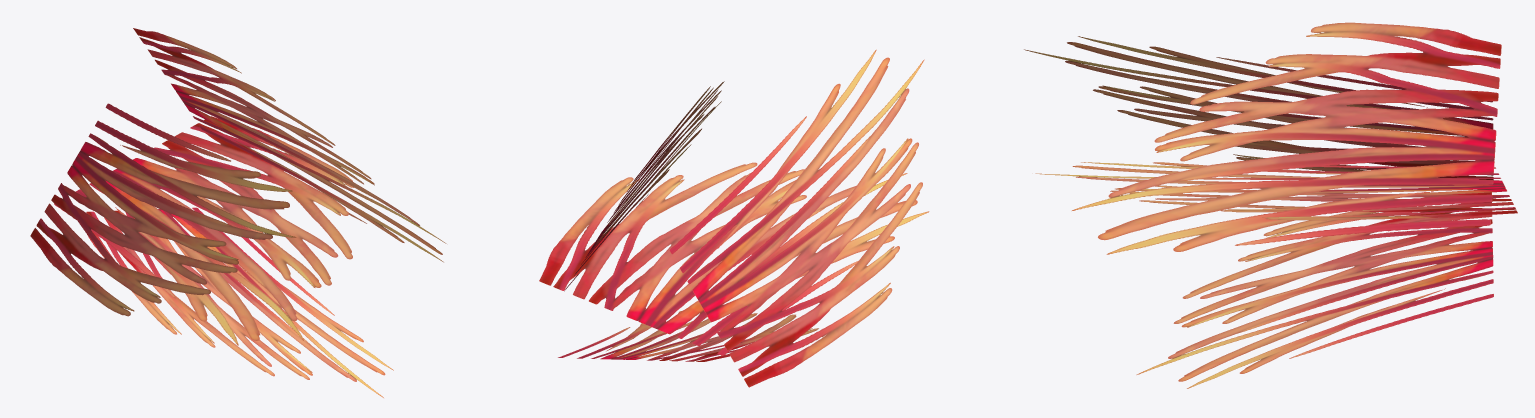
File: env_clutter_seaweed03.fbx
3 views of the same model, side by side, from view 1: azimuth 30°, elevation 25°; view 2: azimuth 150°, elevation 25°; view 3: azimuth 270°, elevation 25° (orthographic). The views are drawn at different scales.
Visible parts, largest first — view 1: group3; view 2: group3; view 3: group3.
Boxes of the visible parts, x1,y1,x2,y2 form: group3: [30, 28, 446, 397]; group3: [539, 49, 929, 387]; group3: [1024, 22, 1517, 388].
Bounding box in the file's own units: 3.11 × 3.39 × 4.81.
